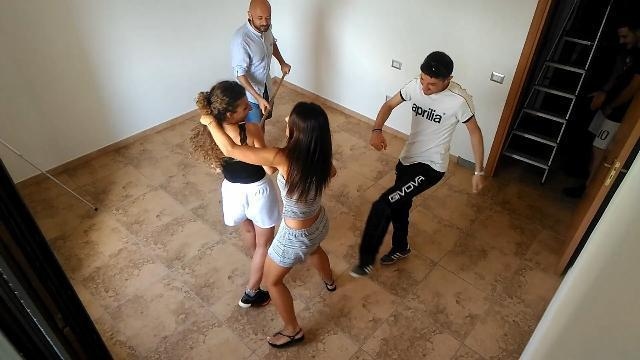non-violence: (588, 27, 640, 187)
violence: (190, 80, 340, 346), (352, 50, 486, 279), (230, 1, 292, 166)
